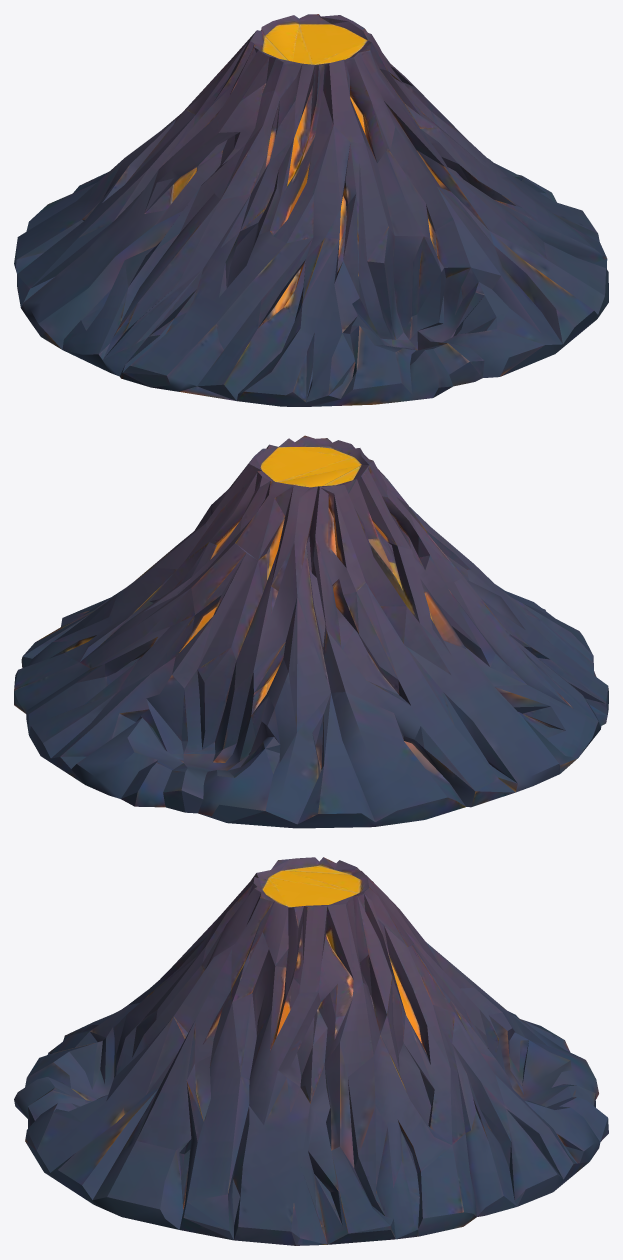
File: vesuvius.glb
3 renders of one model, top to bottom at view 1: azimuth 30°, elevation 25°; view 2: azimuth 150°, elevation 25°; view 3: azimuth 270°, elevation 25°, orthographic.
Size of the model in its own units: 1.9 by 0.8426 by 1.9.
1 material, 1 textured.
